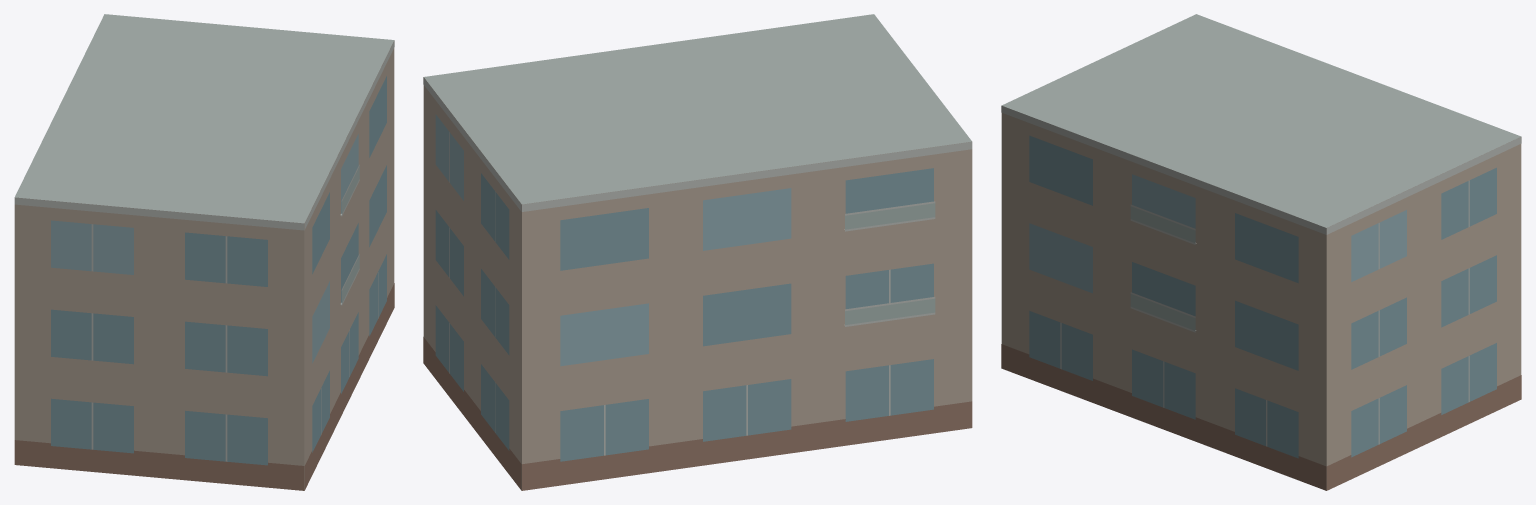
File: survey-upis-32708100.glb
3 renders of one model, left to right at view 1: azimuth 30°, elevation 25°; view 2: azimuth 150°, elevation 25°; view 3: azimuth 270°, elevation 25°, orthographic. The views are drawn at different scales.
Visible parts, largest first — view 1: survey-upis-32708100.tmp; view 2: survey-upis-32708100.tmp; view 3: survey-upis-32708100.tmp.
Boxes of the visible parts, x1=… form: survey-upis-32708100.tmp: x1=14, y1=14, x2=394, y2=490; survey-upis-32708100.tmp: x1=423, y1=14, x2=972, y2=490; survey-upis-32708100.tmp: x1=1001, y1=14, x2=1521, y2=490.
Size of the model in its own units: 15.98 by 9.15 by 16.41.
